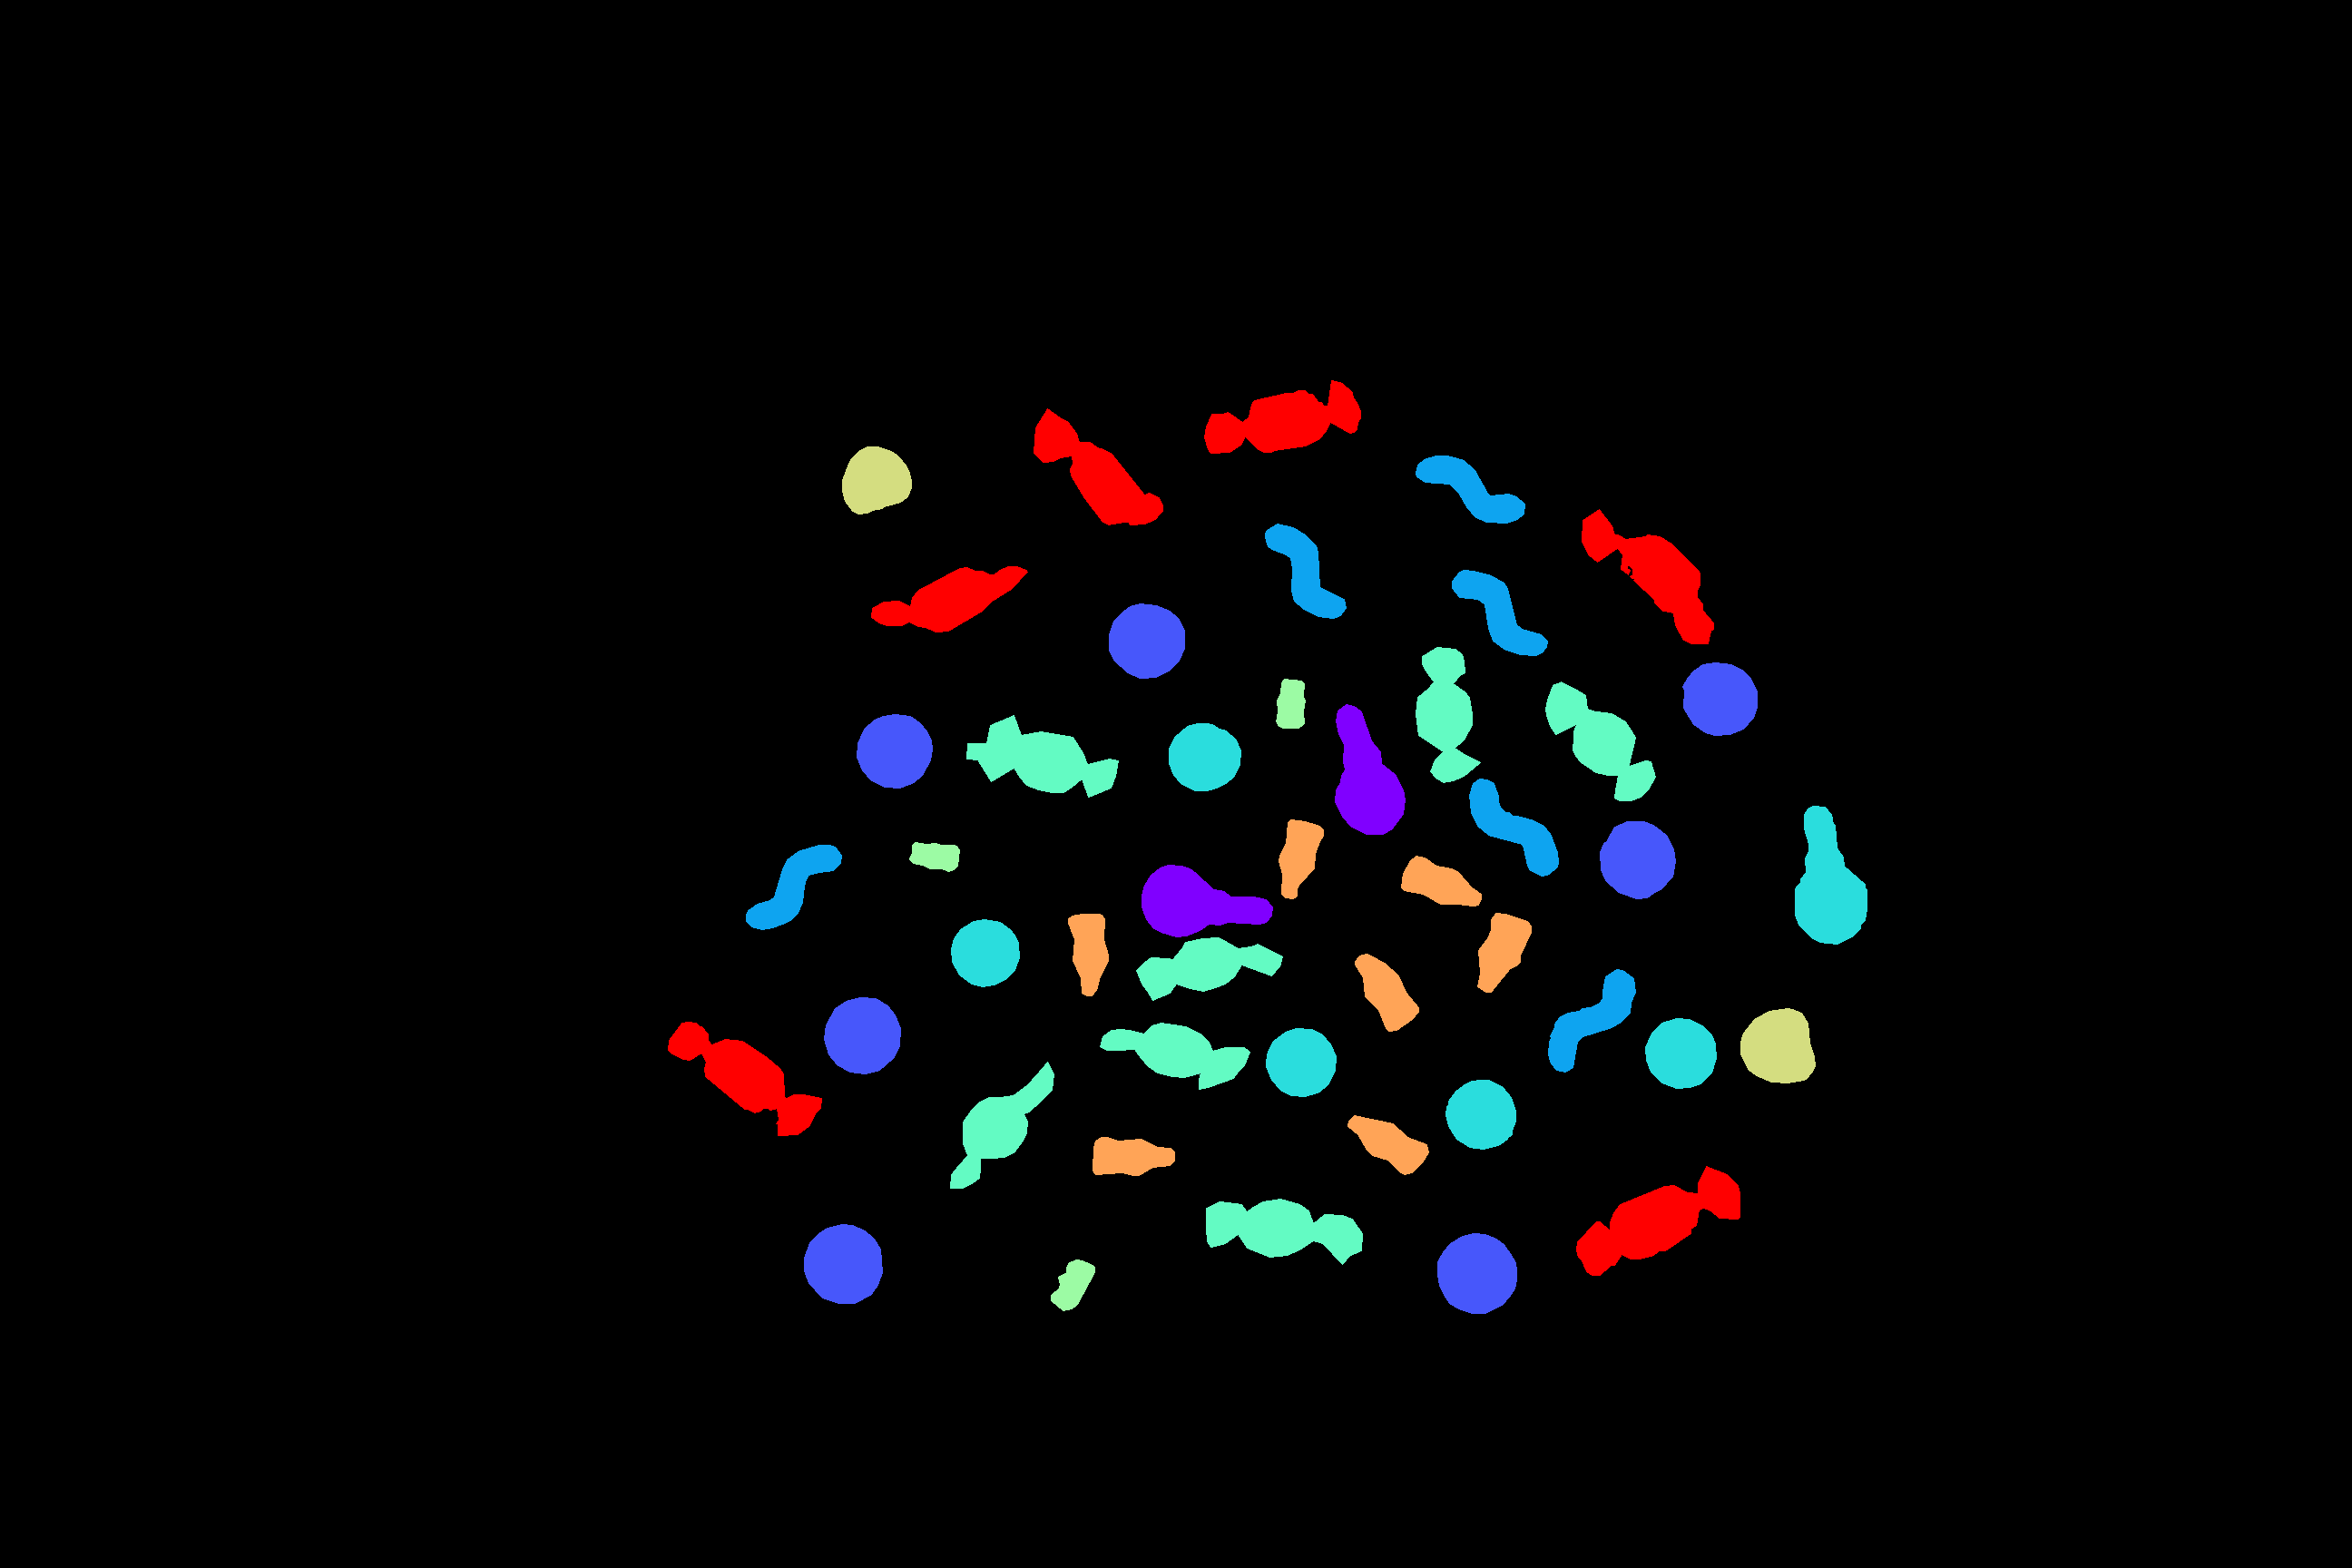apricot_jellies: (1741, 1008, 1815, 1083), (842, 446, 912, 513)
bear: (1050, 1260, 1094, 1311), (1276, 679, 1305, 728), (910, 842, 959, 871)
coin_candy: (803, 1223, 882, 1304), (1437, 1234, 1515, 1313), (1600, 821, 1675, 898), (824, 997, 900, 1073), (856, 714, 933, 788), (1109, 604, 1185, 677), (1682, 663, 1757, 735)
cola bottle candies: (1354, 954, 1417, 1031), (1347, 1115, 1428, 1174), (1477, 914, 1531, 992), (1402, 856, 1481, 905), (1279, 819, 1323, 898), (1068, 914, 1108, 996), (1092, 1138, 1174, 1174)
dummies: (1141, 865, 1272, 936), (1335, 704, 1405, 835)
riesen: (1577, 1166, 1739, 1276), (1582, 509, 1713, 644), (669, 1022, 821, 1136), (1034, 408, 1162, 525), (1204, 380, 1360, 453), (871, 567, 1027, 632)
sourworms: (1549, 970, 1634, 1071), (1468, 779, 1558, 875), (745, 845, 842, 929), (1452, 571, 1547, 655), (1265, 523, 1346, 618), (1416, 455, 1524, 523)
tofifee: (1796, 805, 1867, 943), (1645, 1019, 1718, 1089), (1169, 723, 1241, 791), (1265, 1027, 1335, 1095), (1445, 1080, 1515, 1148), (950, 919, 1019, 987)
vollmilch_brocken: (1545, 681, 1656, 800), (950, 1062, 1053, 1188), (966, 716, 1118, 796), (1206, 1199, 1362, 1264), (1099, 1022, 1249, 1089), (1136, 938, 1283, 999), (1416, 647, 1481, 782)
